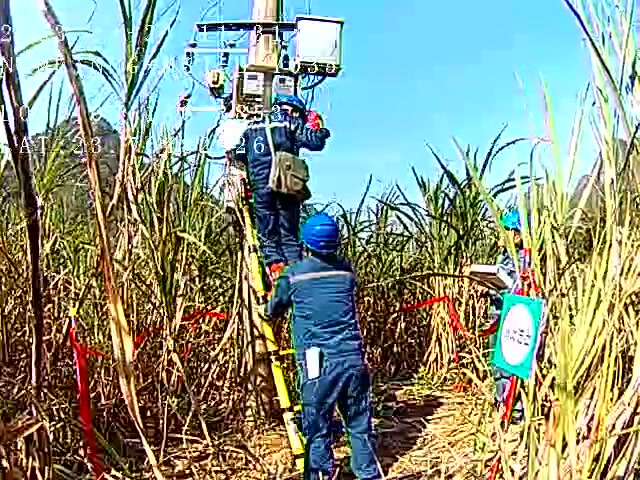halt: (303, 216, 344, 260), (283, 98, 310, 122)
